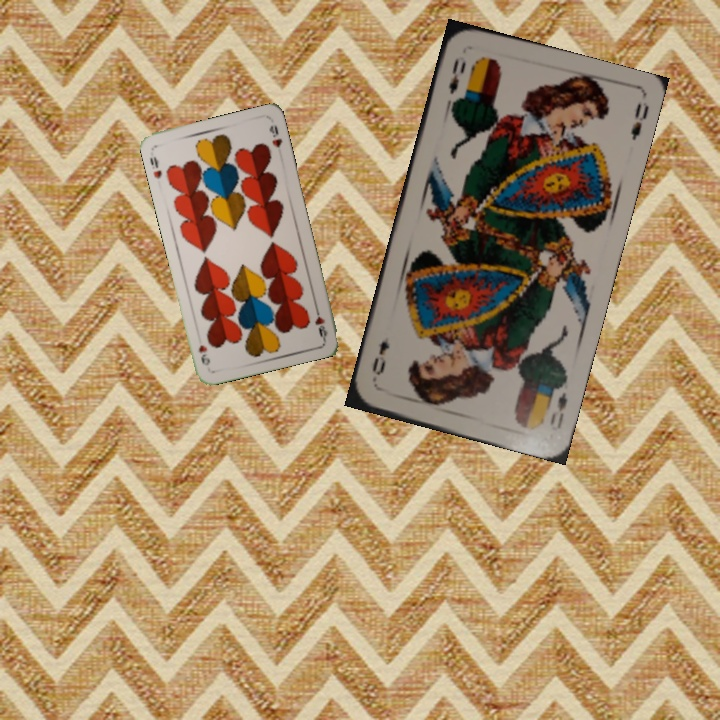EO: (545, 388, 570, 434), (445, 54, 469, 97)
H9: (310, 301, 330, 341), (146, 152, 164, 181)
